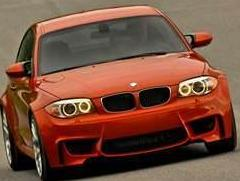front_view: (32, 73, 235, 166)
headlight: (39, 93, 99, 121)
side_glass: (14, 30, 35, 79)
